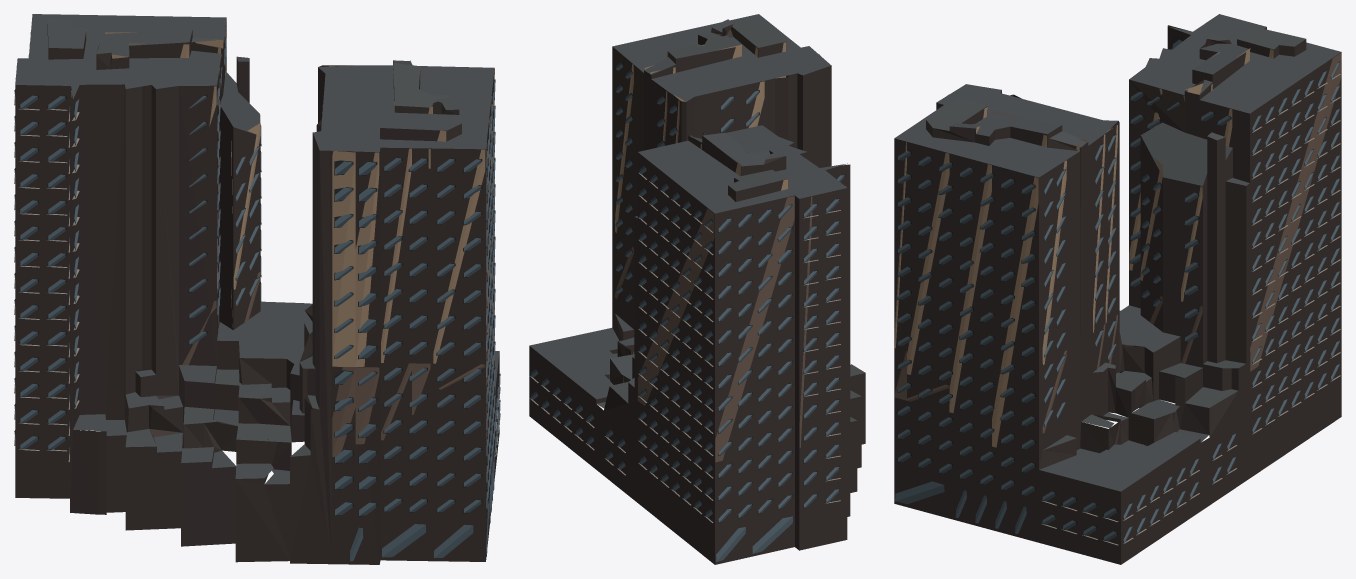
Rendered from grasweg-116.lod1.glb.
The picture shows the model from 3 angles, left to right: view 1: azimuth 30°, elevation 25°; view 2: azimuth 150°, elevation 25°; view 3: azimuth 270°, elevation 25°; orthographic projection. The views are drawn at different scales.
Visible parts, largest first — view 1: grasweg-116; view 2: grasweg-116; view 3: grasweg-116.
Boxes of the visible parts, x1,y1,x2,y2 form: grasweg-116: (14, 14, 500, 564); grasweg-116: (529, 14, 865, 564); grasweg-116: (894, 14, 1341, 564).
Size of the model in its own units: 52.25 by 49.98 by 53.27.
